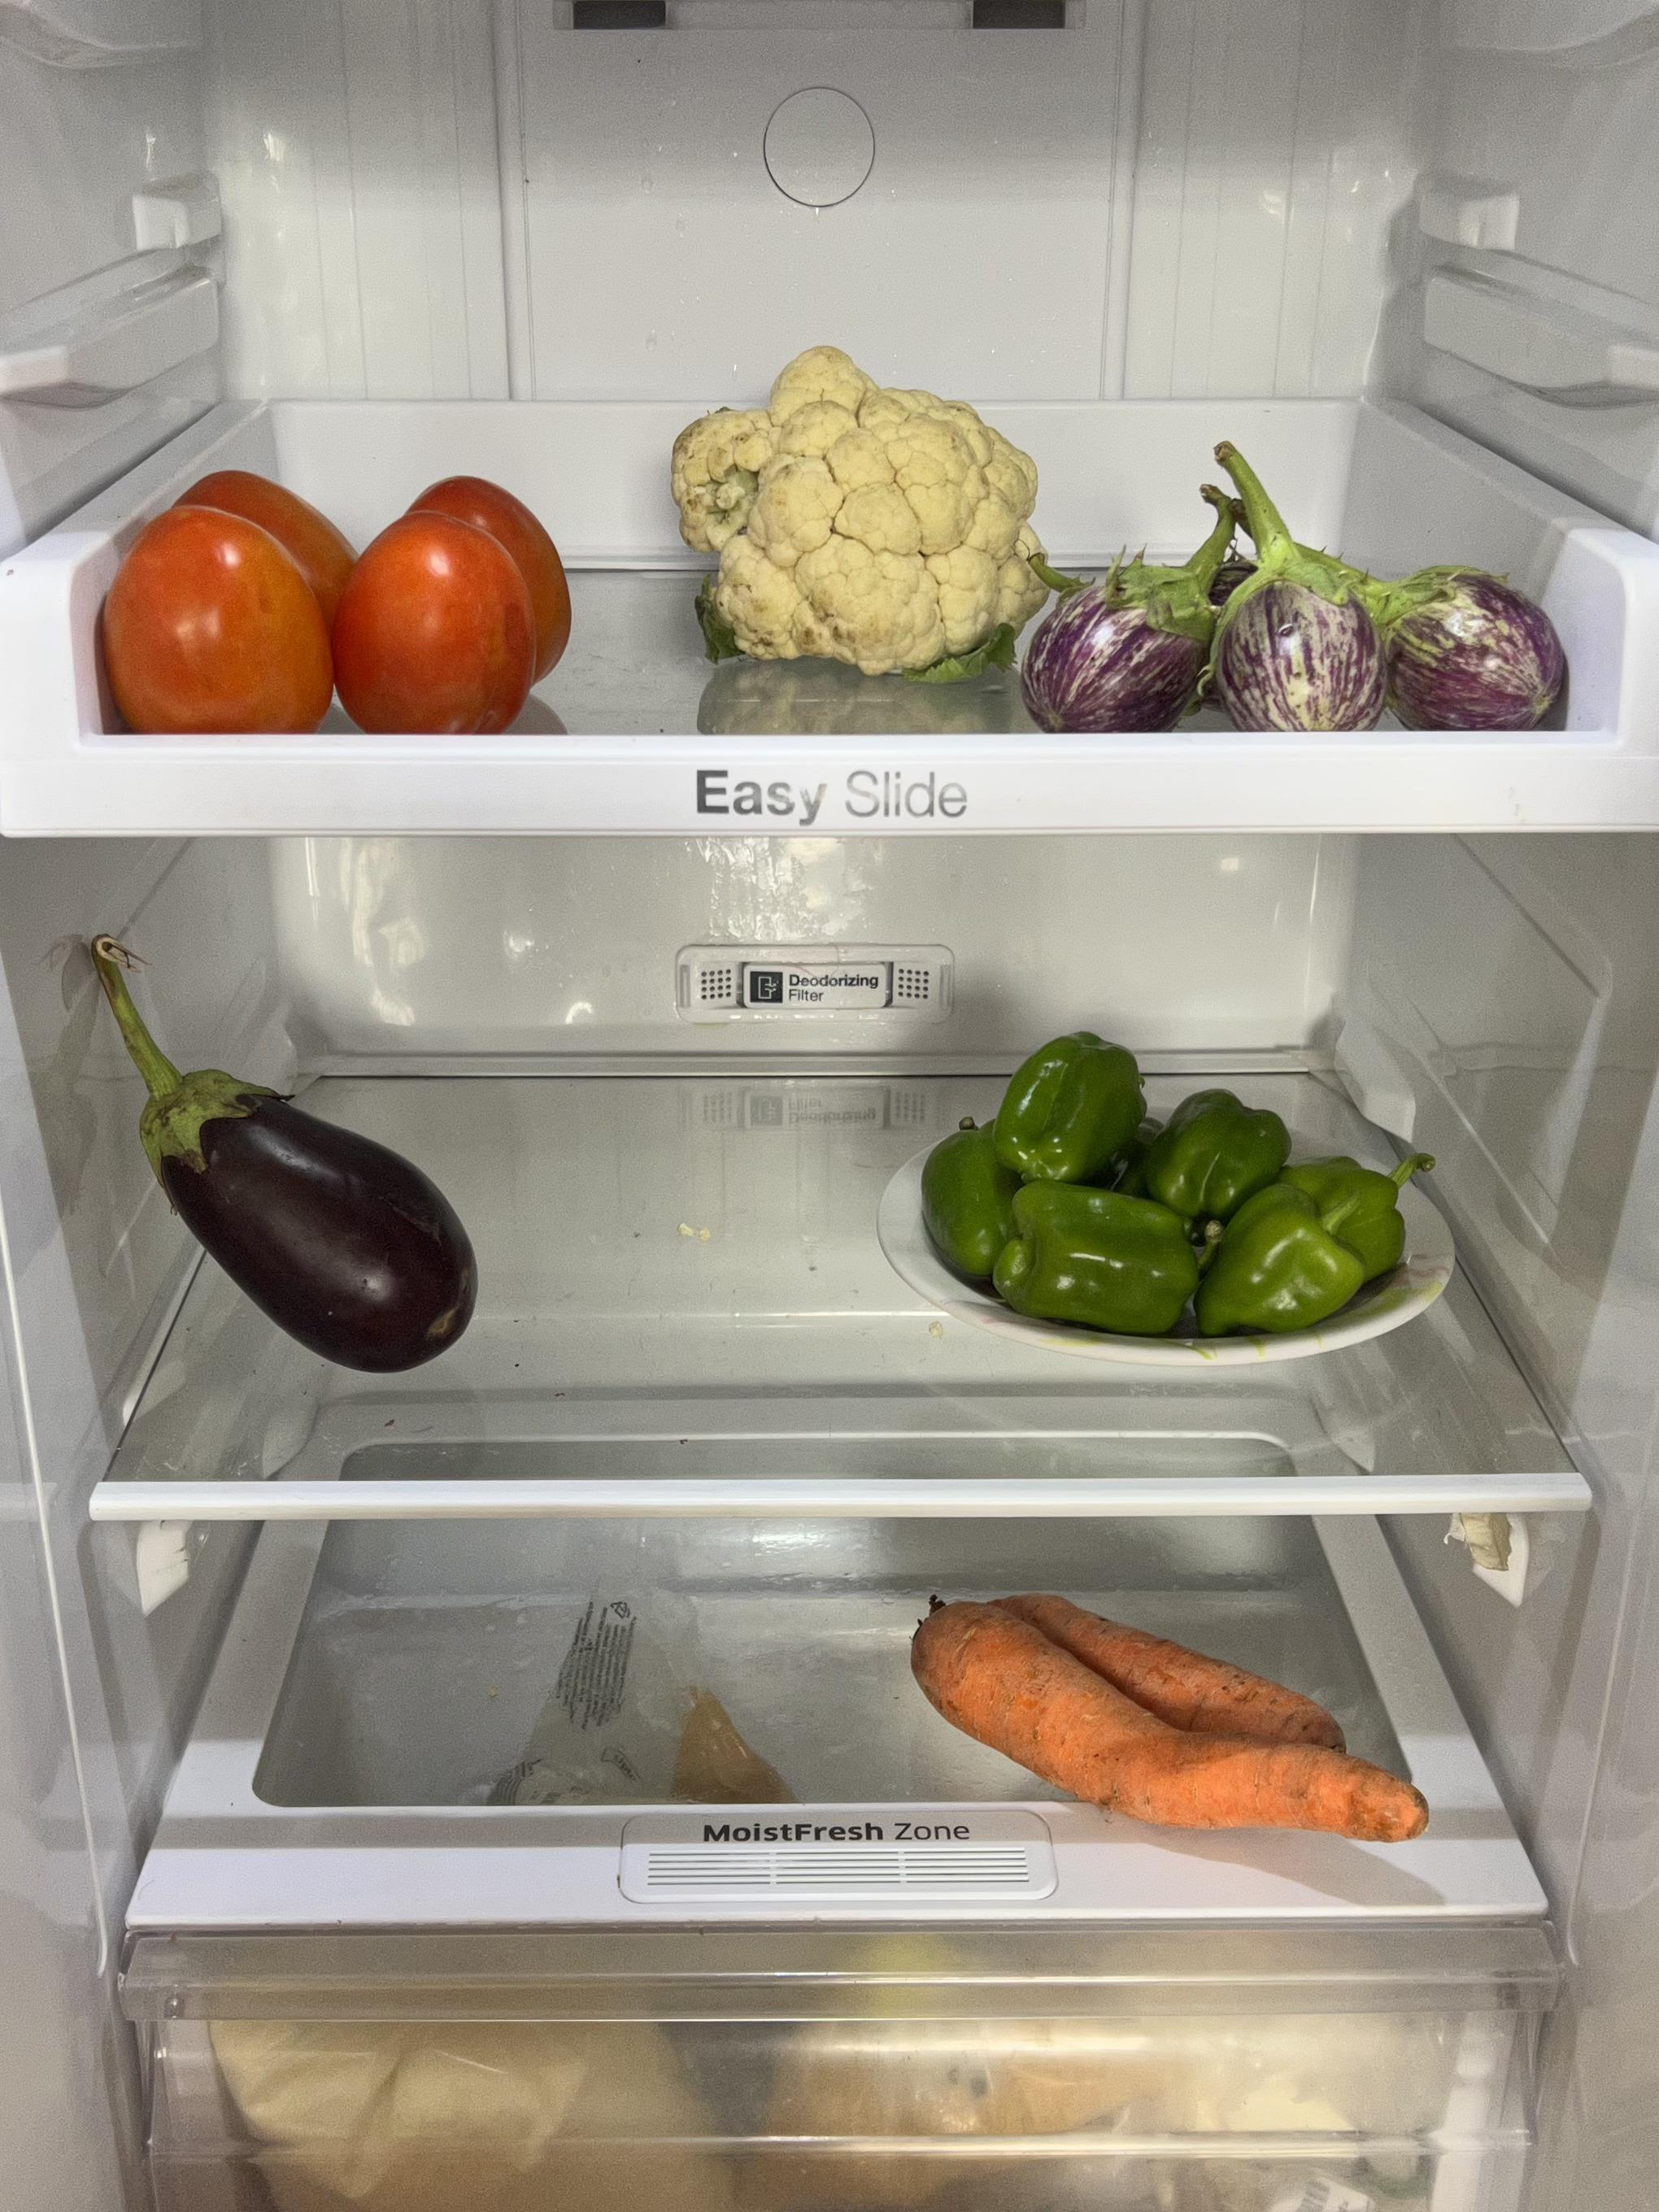bringal: (110, 998, 481, 1385), (1011, 521, 1579, 742)
capsicum: (922, 1031, 1406, 1329)
carrots: (904, 1583, 1431, 1848)
cauliflower: (653, 345, 1047, 678)
tomato: (92, 453, 575, 735)
